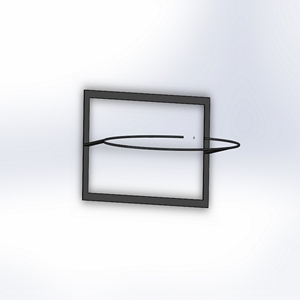circle: (78, 86, 241, 210)
